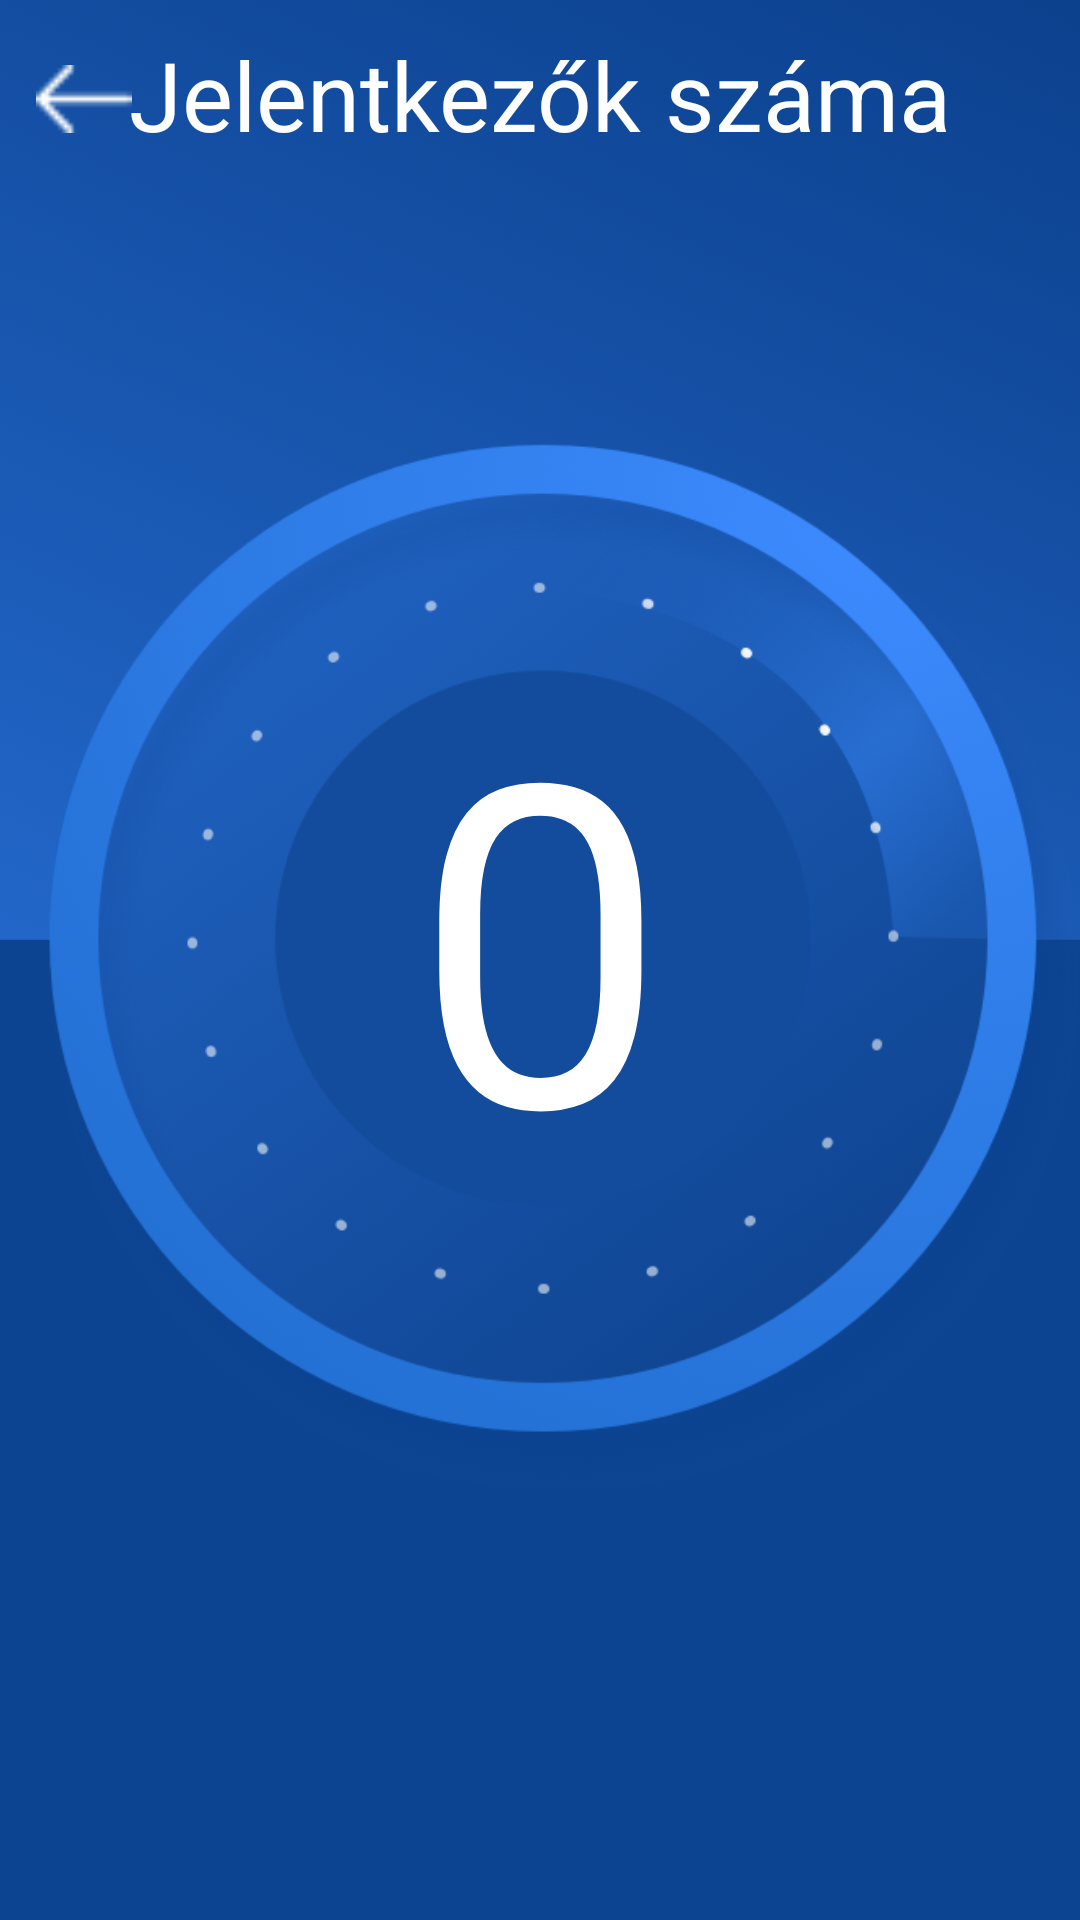

Point at icon controls on the screen. Image size 1080*1920, points as (x=x, y=y).
back: (x=84, y=99)
